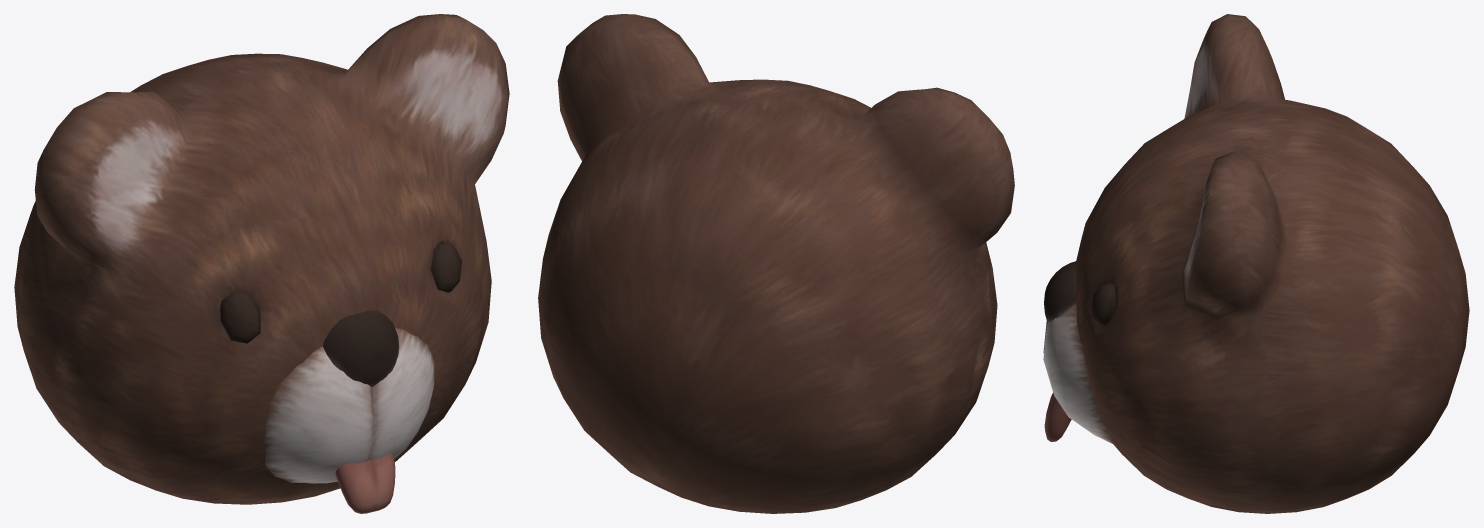
Rendered from avatar3-head.obj.
3 views of the same model, side by side, from view 1: azimuth 30°, elevation 25°; view 2: azimuth 150°, elevation 25°; view 3: azimuth 270°, elevation 25° (orthographic). The views are drawn at different scales.
Visible parts, largest first — view 1: head; view 2: head; view 3: head.
Part boxes in pixels (x1,y1,x2,y2): head: [14, 14, 509, 513]; head: [538, 14, 1014, 513]; head: [1043, 14, 1469, 513].
Size of the model in its own units: 0.4036 by 0.3609 by 0.3528.
Materials: 1 (1 with a texture image).
